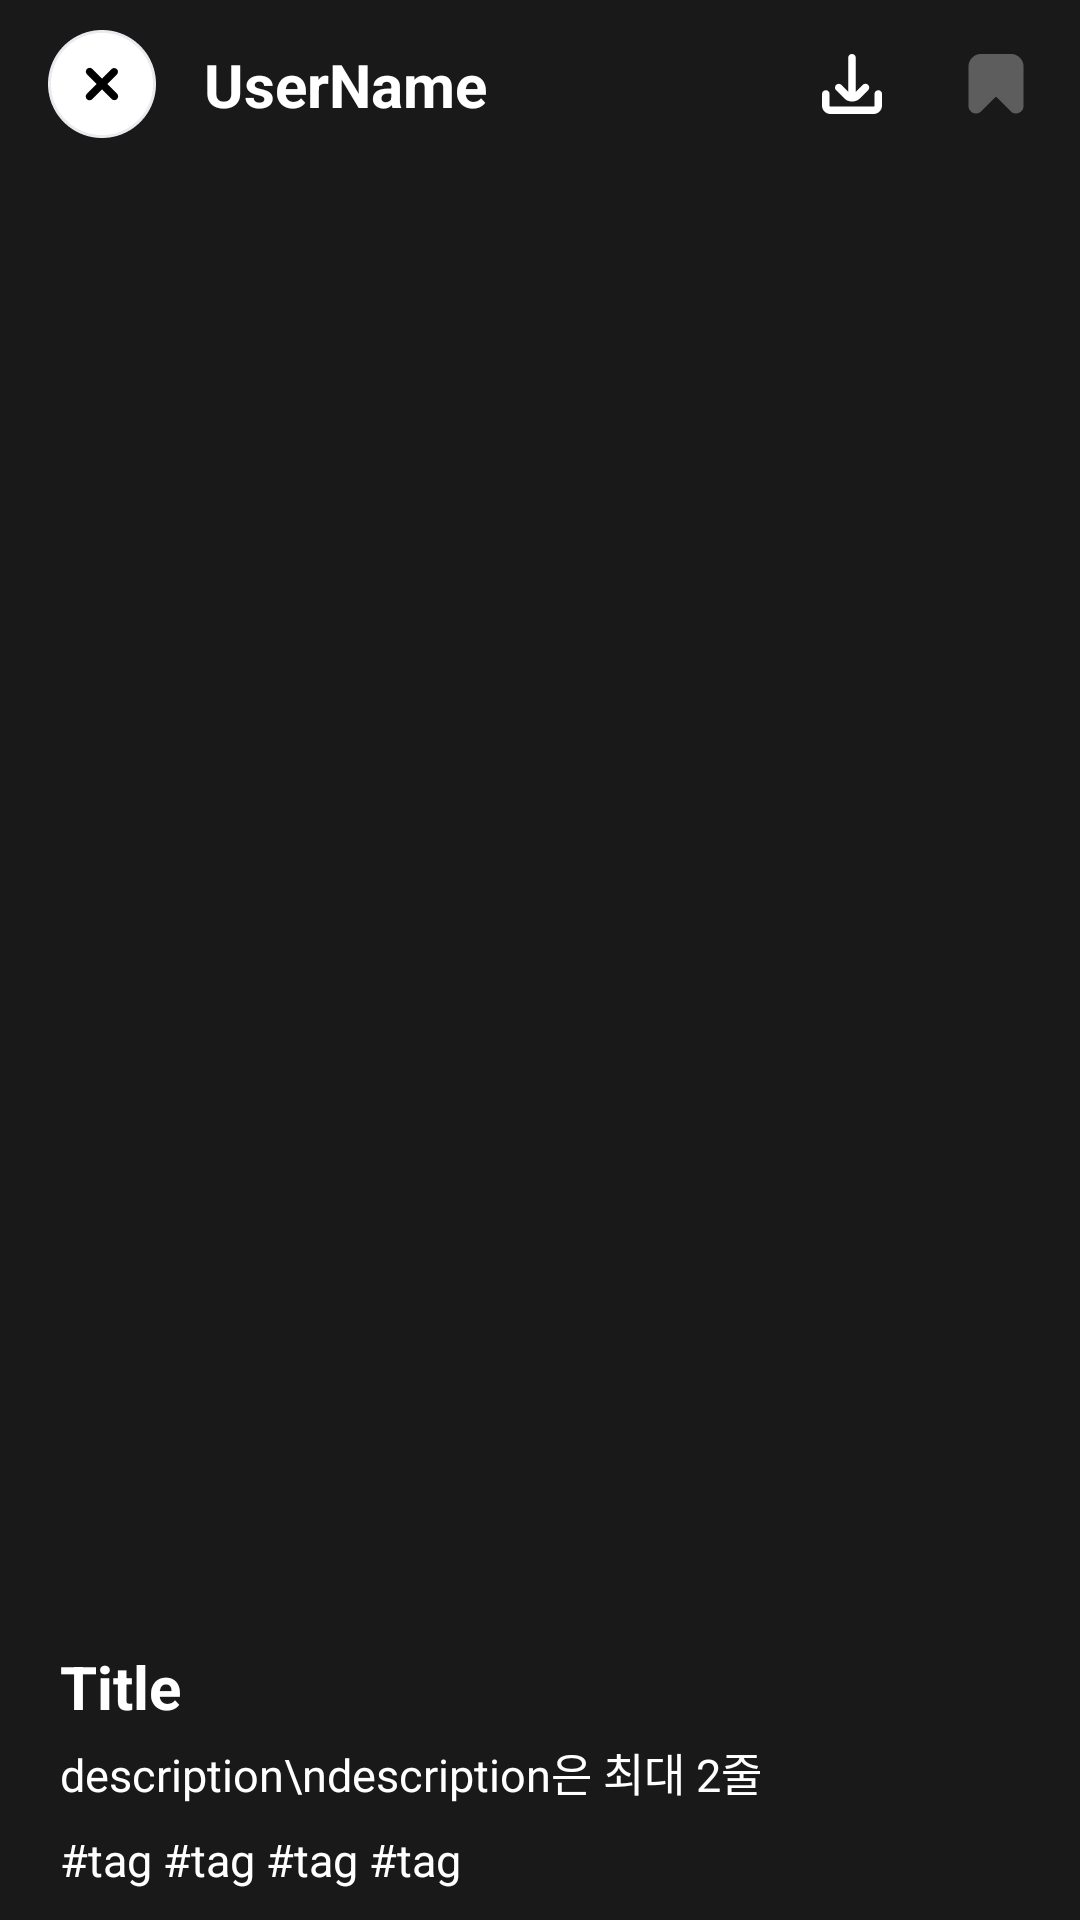

Point at icon controls on the screen. Image size 1080x1920, points as point (x, y).
bookmark: point (996, 84)
cancel: point (102, 84)
download: point (852, 84)
